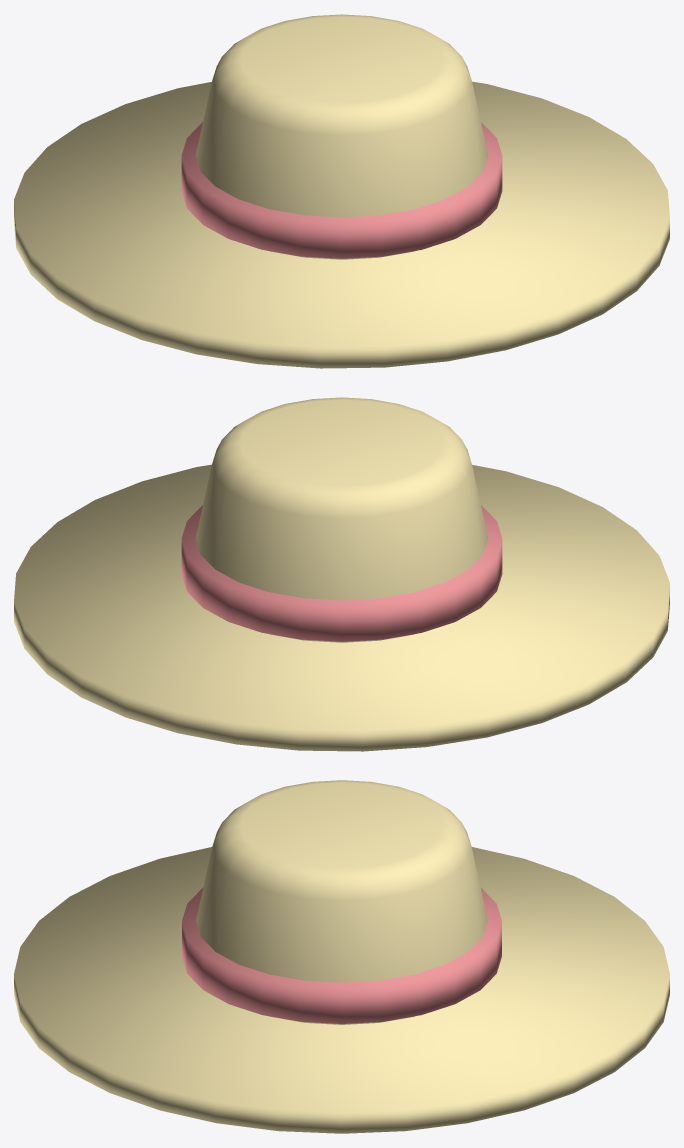
Rendered from straw_hat.glb.
The picture shows the model from 3 angles, top to bottom: view 1: azimuth 30°, elevation 25°; view 2: azimuth 150°, elevation 25°; view 3: azimuth 270°, elevation 25°; orthographic projection.
Parts seen in each view (by area): view 1: straw_hat; view 2: straw_hat; view 3: straw_hat.
Boxes of the visible parts, x1=… form: straw_hat: x1=14, y1=14, x2=669, y2=368; straw_hat: x1=14, y1=397, x2=669, y2=751; straw_hat: x1=14, y1=780, x2=669, y2=1133.
Size of the model in its own units: 0.84 by 0.2398 by 0.84.
